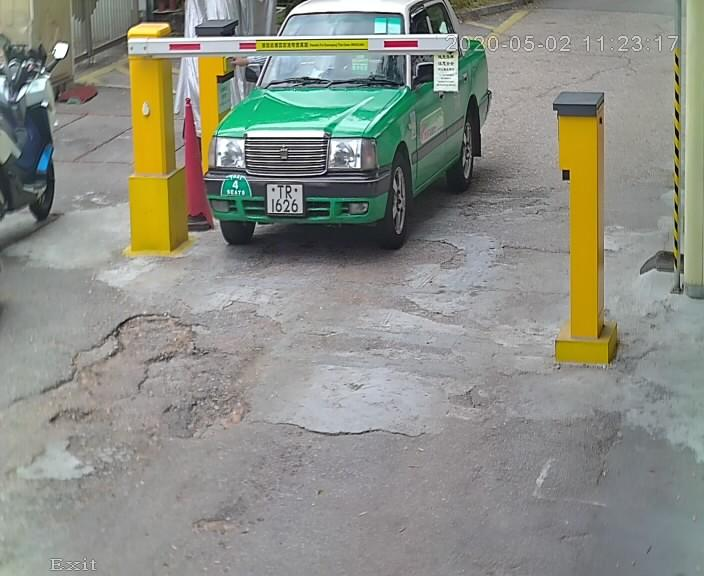Car: (194, 1, 499, 265)
License Plate: (258, 179, 308, 217)
